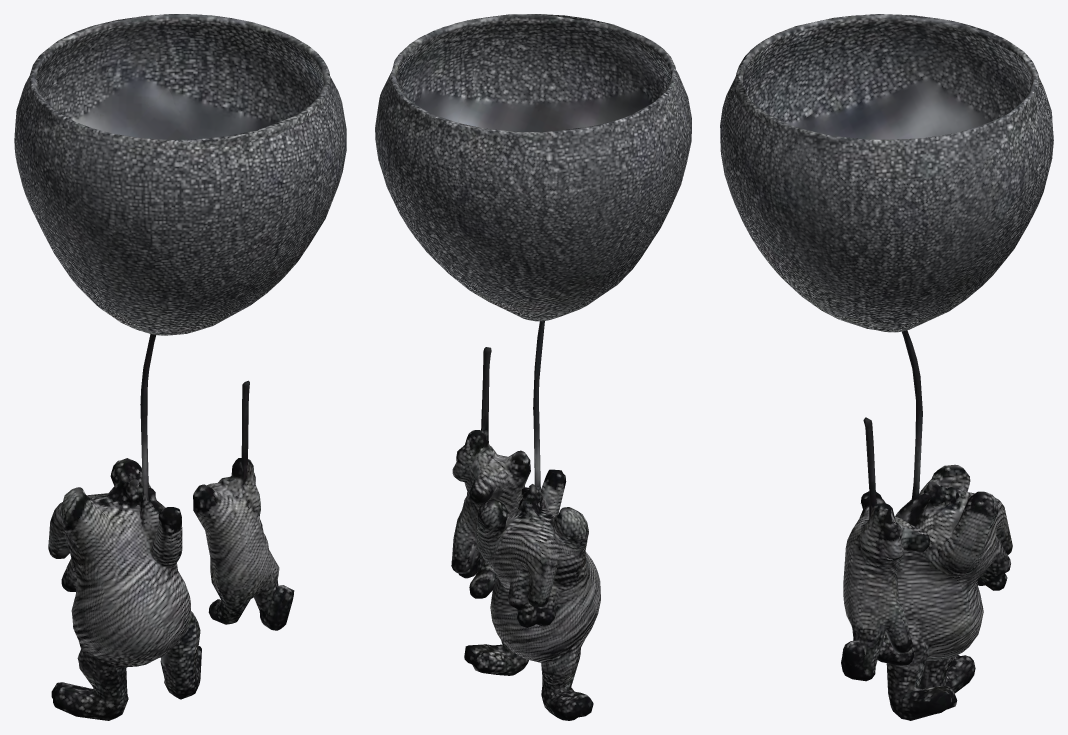
The picture shows the model from 3 angles, left to right: view 1: azimuth 30°, elevation 25°; view 2: azimuth 150°, elevation 25°; view 3: azimuth 270°, elevation 25°; orthographic projection. The views are drawn at different scales.
Visible parts, largest first — view 1: node_0; view 2: node_0; view 3: node_0.
Part boxes in pixels (x1,y1,x2,y2): node_0: (14,14,346,720); node_0: (375,14,691,720); node_0: (720,14,1053,720).
Bounding box in the file's own units: 0.5165 × 1.1 × 0.5149.
Materials: 1 (1 with a texture image).
